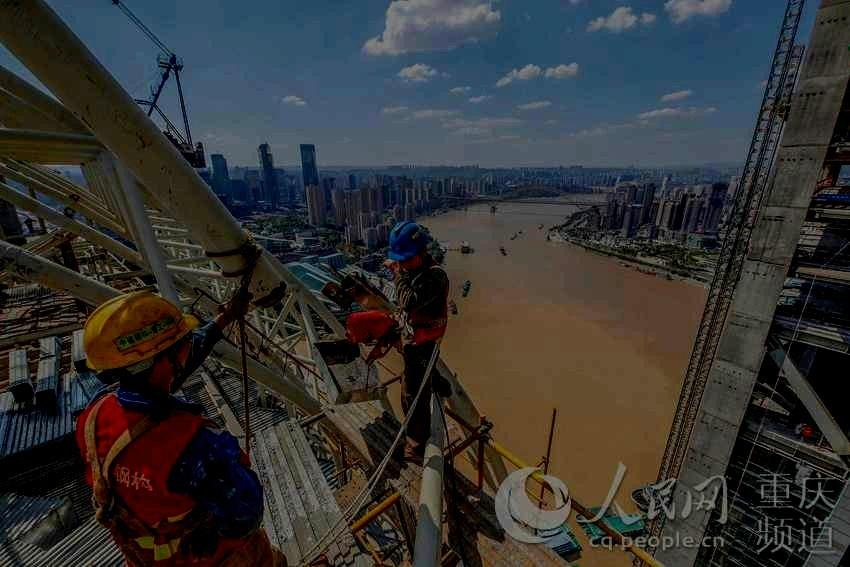helmet: (80, 289, 198, 389), (386, 221, 435, 275)
